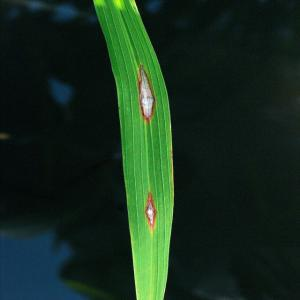1 RiceBlast: (136, 56, 174, 134), (135, 176, 167, 234)
